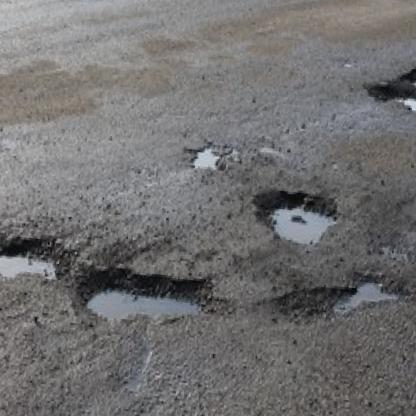pothole: (71, 263, 221, 335), (276, 264, 406, 332), (251, 186, 340, 249), (0, 230, 68, 290), (364, 80, 416, 118), (187, 144, 226, 175), (397, 58, 416, 92)
